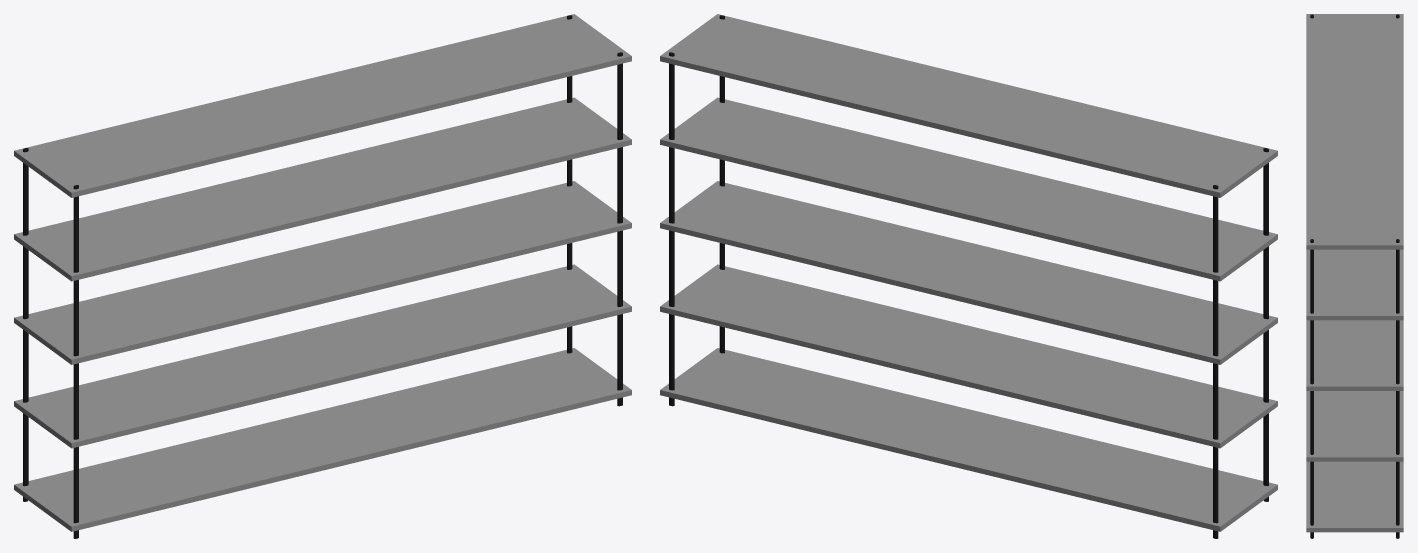
Rendered from Prop_IndustrialShelf.FBX.
3 renders of one model, left to right at view 1: azimuth 30°, elevation 25°; view 2: azimuth 150°, elevation 25°; view 3: azimuth 270°, elevation 25°, orthographic. The views are drawn at different scales.
Visible parts, largest first — view 1: Baytek_PlayerRoom_Set03_Shelf; view 2: Baytek_PlayerRoom_Set03_Shelf; view 3: Baytek_PlayerRoom_Set03_Shelf.
Part boxes in pixels (<box>): Baytek_PlayerRoom_Set03_Shelf: <box>14,14,631,538</box>; Baytek_PlayerRoom_Set03_Shelf: <box>660,14,1277,538</box>; Baytek_PlayerRoom_Set03_Shelf: <box>1306,14,1403,538</box>.
Bounding box in the file's own units: 338 × 203 × 60.01.
